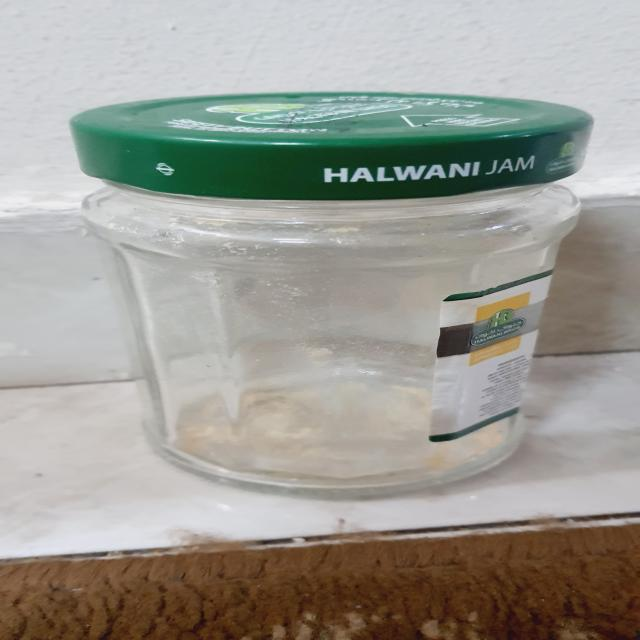glass: (46, 80, 616, 508)
